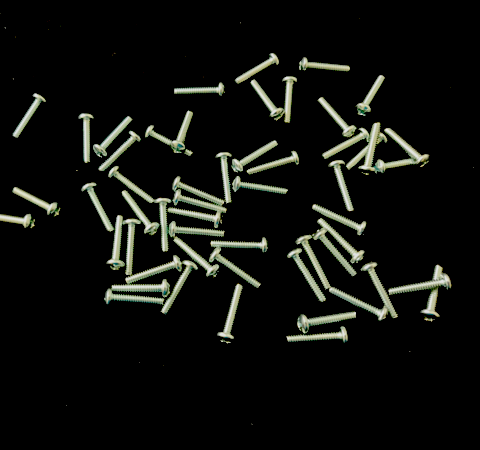longscrew: (328, 287, 390, 328), (285, 248, 328, 305), (316, 218, 367, 266), (312, 227, 359, 279), (360, 261, 400, 321), (208, 247, 262, 291), (160, 260, 200, 317), (294, 234, 333, 292), (172, 236, 221, 281), (98, 130, 143, 174), (384, 128, 431, 170), (108, 165, 155, 206), (312, 204, 367, 239), (121, 189, 160, 238), (343, 132, 388, 174), (80, 182, 115, 234), (93, 116, 134, 160), (12, 185, 63, 220), (11, 93, 48, 141), (124, 255, 183, 285), (144, 125, 196, 159), (317, 97, 358, 140), (171, 175, 226, 207), (388, 273, 455, 299), (231, 140, 279, 176), (217, 284, 245, 345), (321, 128, 370, 161), (297, 310, 358, 336), (234, 53, 280, 87), (419, 264, 445, 324), (250, 79, 285, 122), (285, 326, 350, 349), (328, 159, 355, 214), (246, 150, 300, 177), (172, 189, 228, 215), (354, 74, 386, 117), (357, 122, 382, 177), (167, 206, 224, 230), (103, 288, 167, 308), (231, 175, 289, 197), (106, 215, 127, 273), (210, 236, 270, 256), (169, 111, 196, 155), (111, 279, 172, 298), (123, 218, 142, 277), (153, 198, 173, 254), (169, 221, 226, 240), (215, 152, 234, 206), (173, 82, 226, 101), (299, 56, 351, 75), (280, 75, 299, 126), (78, 112, 95, 165), (374, 158, 420, 177), (0, 211, 37, 233)
